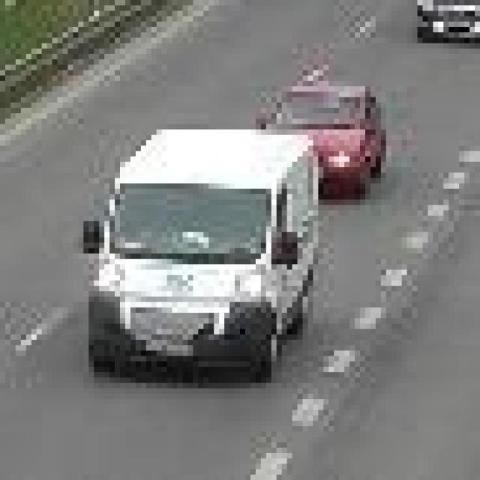car: (261, 84, 386, 202)
van: (92, 127, 321, 375)
